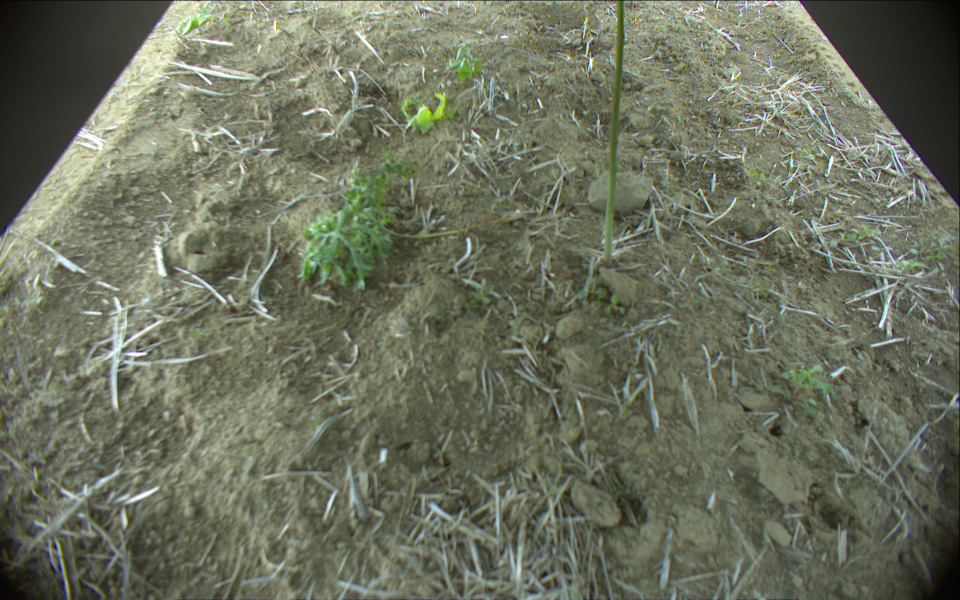aspa: (602, 1, 626, 269)
